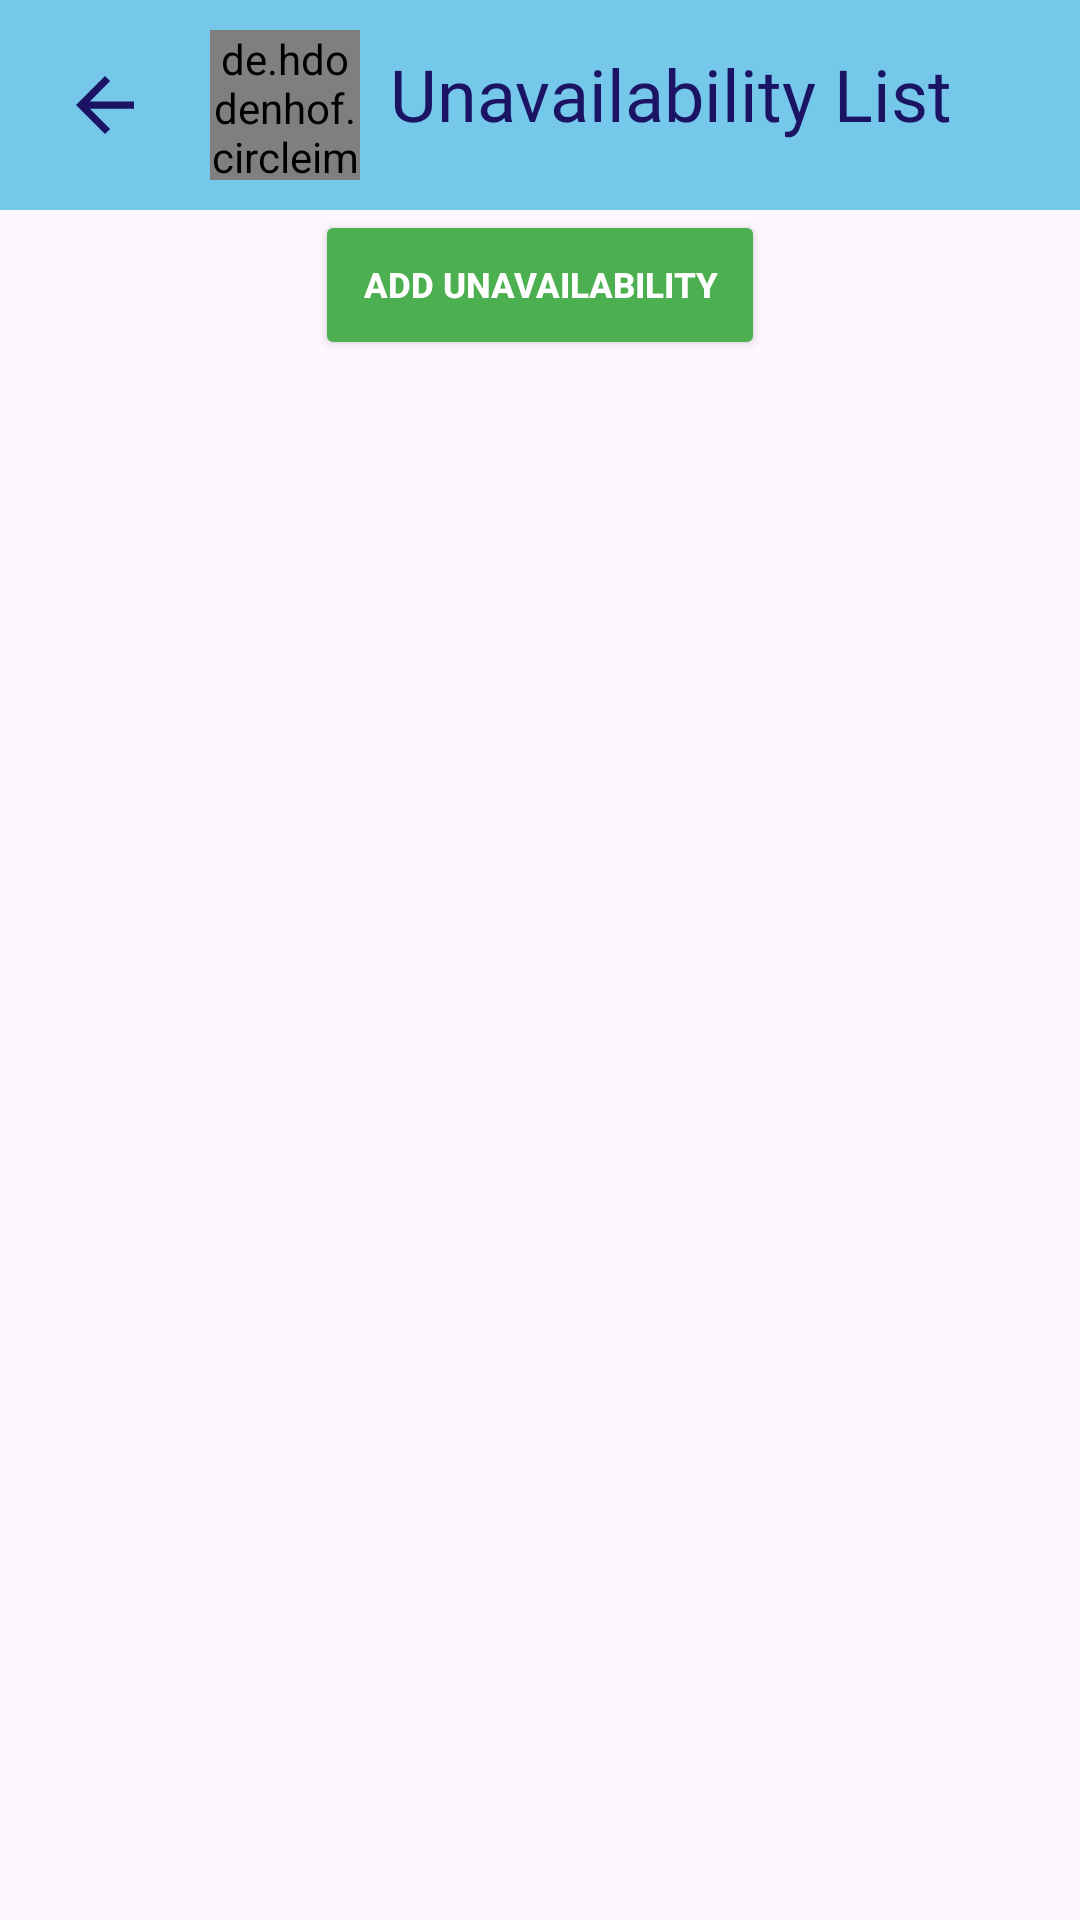

Named icons in this screenshot (1080w x 1920h) and their centers, point (x, y):
back: point (105, 105)
